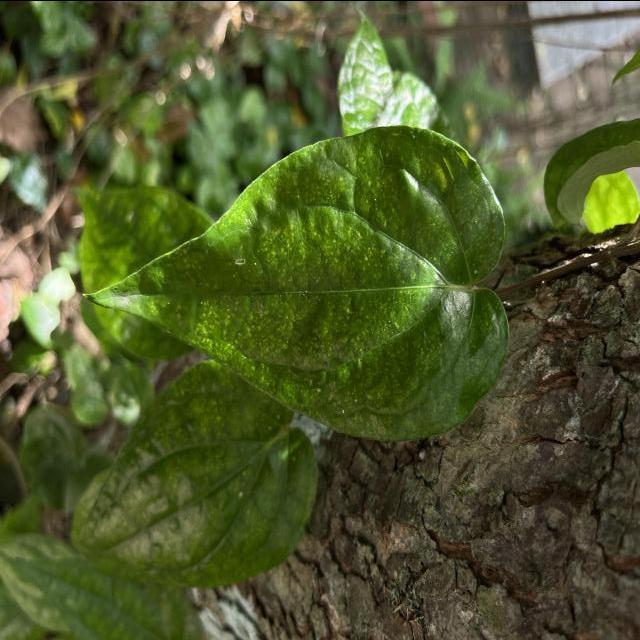Piper betle: (78, 120, 514, 447)
